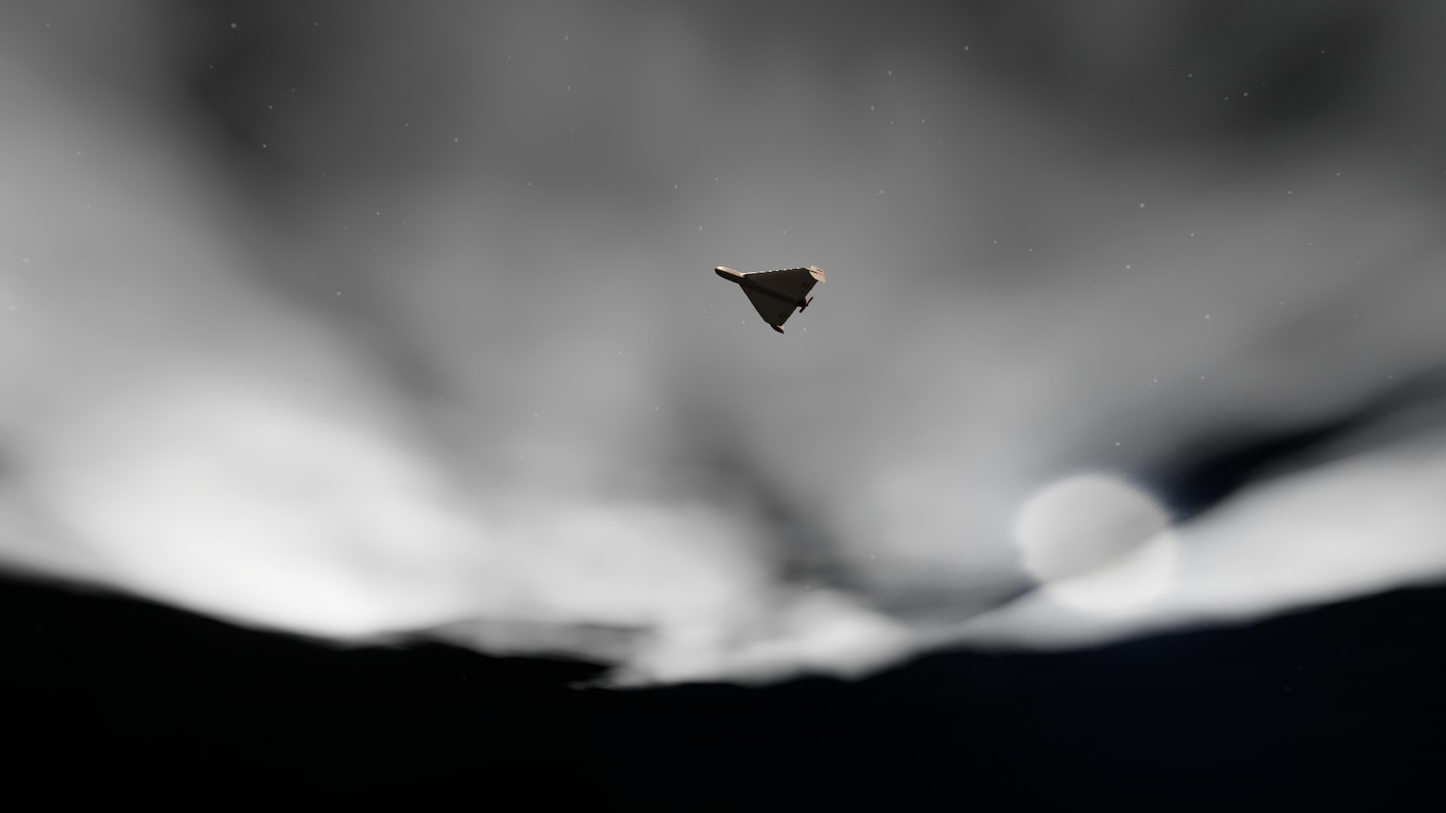shahed: (714, 266, 826, 334)
